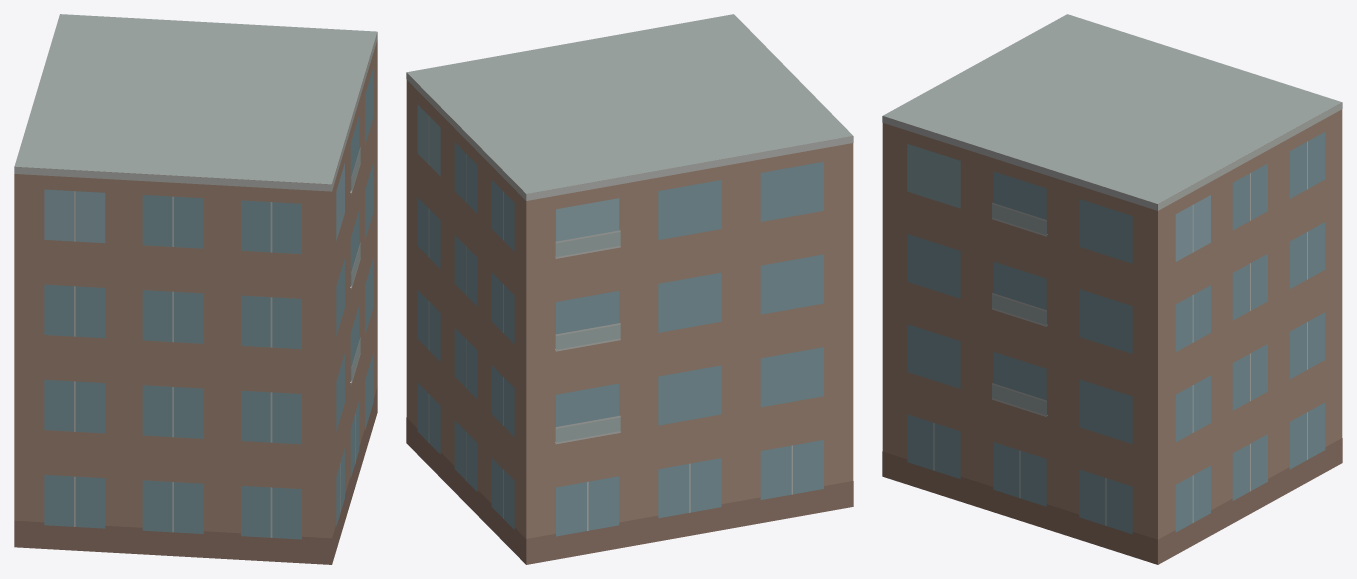
Rendered from survey-upis-32805683.glb.
The picture shows the model from 3 angles, left to right: view 1: azimuth 30°, elevation 25°; view 2: azimuth 150°, elevation 25°; view 3: azimuth 270°, elevation 25°; orthographic projection. The views are drawn at different scales.
Parts seen in each view (by area): view 1: survey-upis-32805683.tmp; view 2: survey-upis-32805683.tmp; view 3: survey-upis-32805683.tmp.
Boxes of the visible parts, bbox=[...] form: survey-upis-32805683.tmp: bbox=[14, 14, 377, 564]; survey-upis-32805683.tmp: bbox=[406, 14, 853, 564]; survey-upis-32805683.tmp: bbox=[882, 14, 1342, 564].
Bounding box in the file's own units: 14.59 × 12.9 × 14.91.
